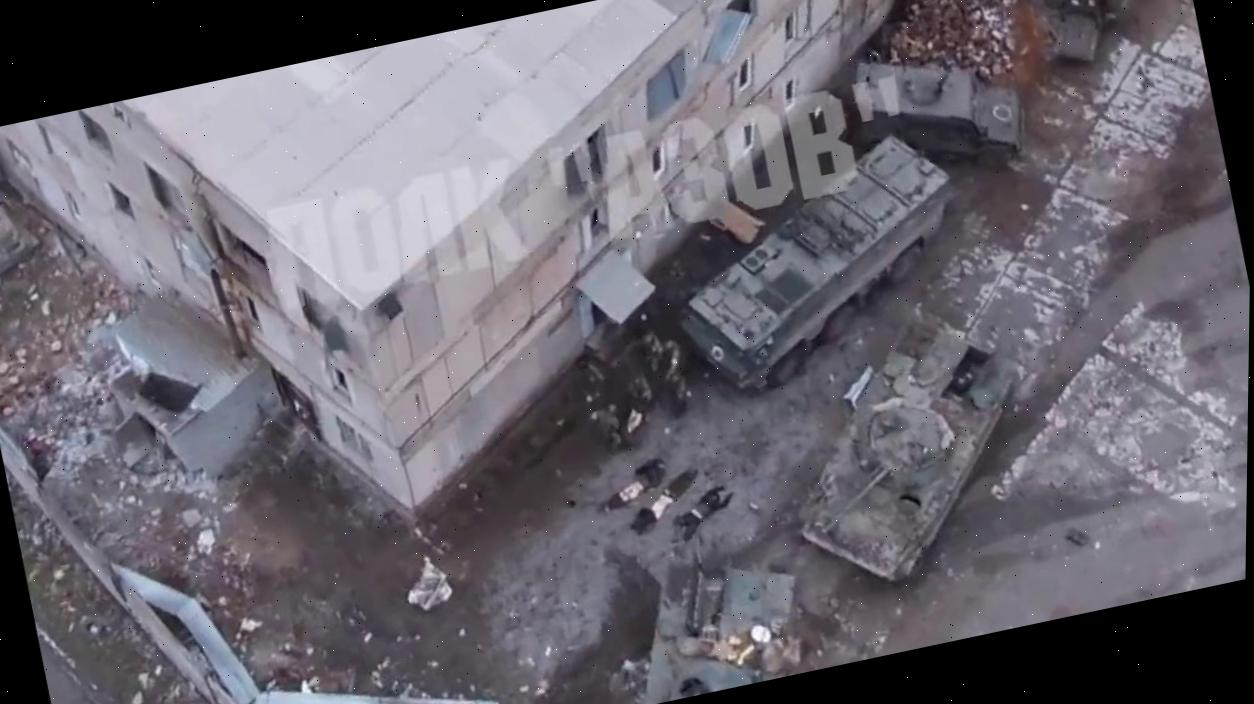armored_car: (844, 29, 1036, 194)
person: (622, 464, 707, 536), (596, 456, 673, 514), (668, 481, 740, 542)
tank: (758, 295, 1063, 603), (596, 531, 816, 704)
truck: (646, 121, 987, 405), (1017, 0, 1181, 63)
